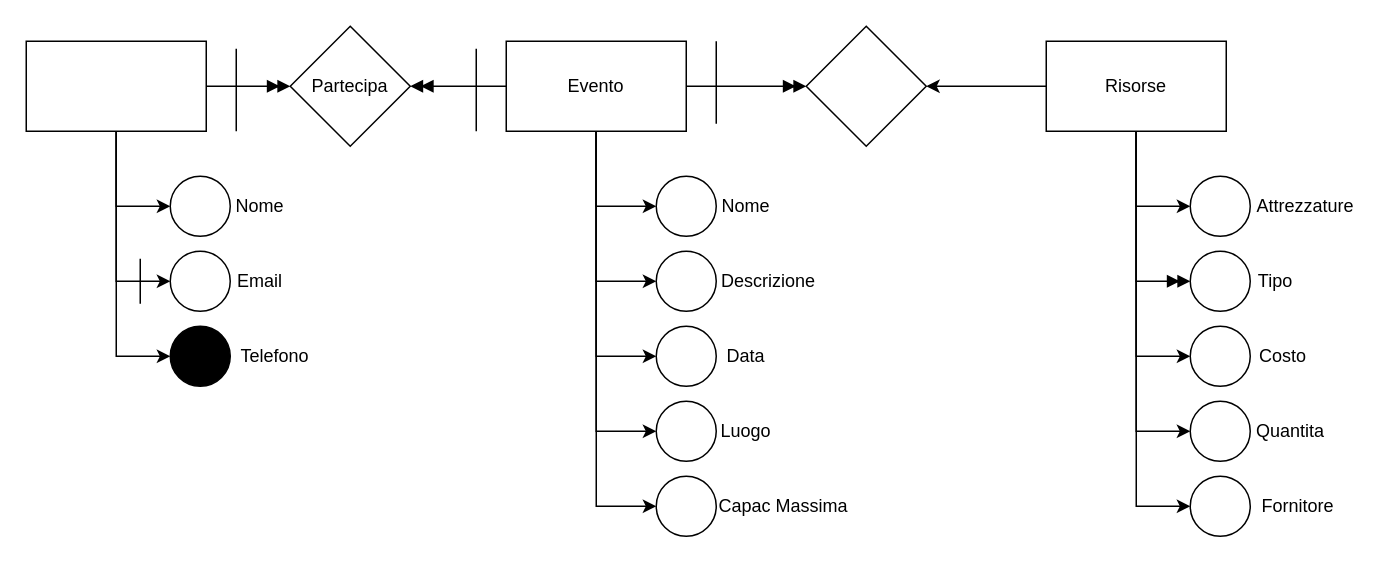
The diagram is 1388 pixels wide and 563 high, and some of its shapes have lost their labels. Each missing label, with the centre of its shape:
"Partecipante" belongs at (x=115, y=85).
"Utilizza" belongs at (x=865, y=85).
